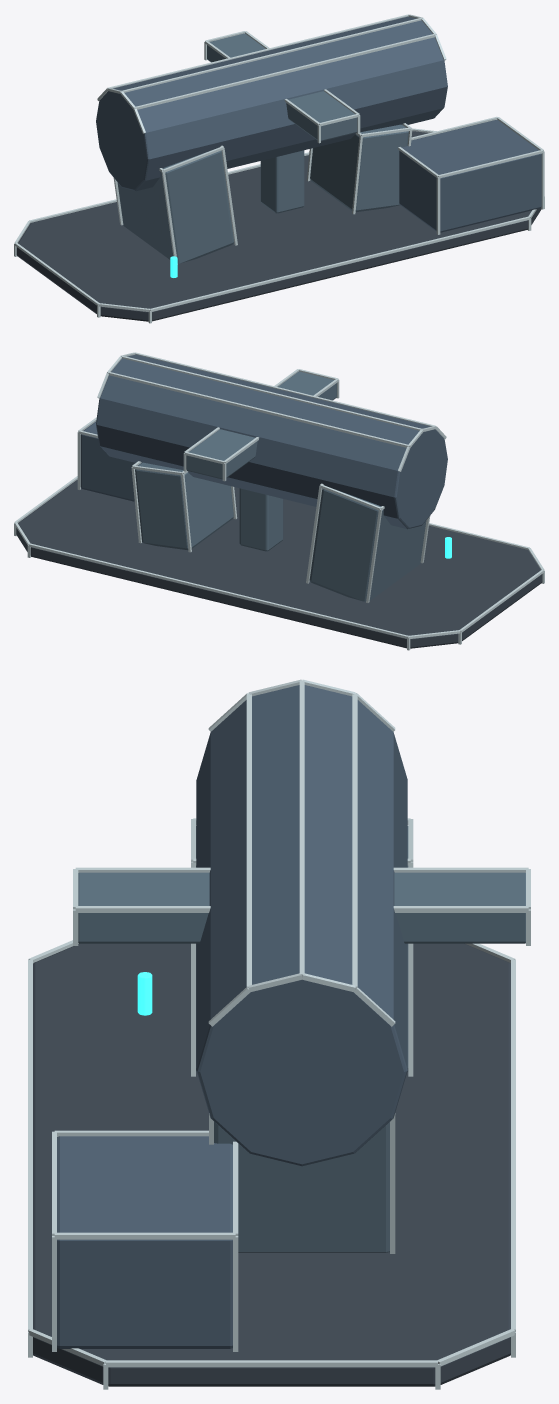
Rendered from skill-ai-v1.glb.
The picture shows the model from 3 angles, top to bottom: view 1: azimuth 30°, elevation 25°; view 2: azimuth 150°, elevation 25°; view 3: azimuth 270°, elevation 25°; orthographic projection. The views are drawn at different scales.
Visible parts, largest first — view 1: skill-ai-v1__mesh-structure-dark__001, skill-ai-v1__mesh-ground__001, skill-ai-v1__mesh-structure-mid__001, skill-ai-v1__technical-lines__001; view 2: skill-ai-v1__mesh-ground__001, skill-ai-v1__mesh-structure-dark__001, skill-ai-v1__mesh-structure-mid__001, skill-ai-v1__technical-lines__001; view 3: skill-ai-v1__mesh-structure-dark__001, skill-ai-v1__mesh-ground__001, skill-ai-v1__mesh-structure-mid__001, skill-ai-v1__technical-lines__001.
Part boxes in pixels (bbox=[...]): skill-ai-v1__mesh-structure-dark__001: bbox=[96, 16, 541, 232]; skill-ai-v1__mesh-ground__001: bbox=[16, 131, 541, 321]; skill-ai-v1__mesh-structure-mid__001: bbox=[117, 33, 408, 263]; skill-ai-v1__technical-lines__001: bbox=[14, 14, 544, 323]; skill-ai-v1__mesh-ground__001: bbox=[16, 480, 542, 648]; skill-ai-v1__mesh-structure-dark__001: bbox=[80, 354, 447, 529]; skill-ai-v1__mesh-structure-mid__001: bbox=[135, 371, 426, 601]; skill-ai-v1__technical-lines__001: bbox=[14, 352, 544, 650]; skill-ai-v1__mesh-structure-dark__001: bbox=[57, 685, 407, 1348]; skill-ai-v1__mesh-ground__001: bbox=[33, 943, 510, 1386]; skill-ai-v1__mesh-structure-mid__001: bbox=[78, 826, 525, 1252]; skill-ai-v1__technical-lines__001: bbox=[28, 679, 530, 1389].
Bounding box in the file's own units: 34.17 × 12.59 × 16.67.
